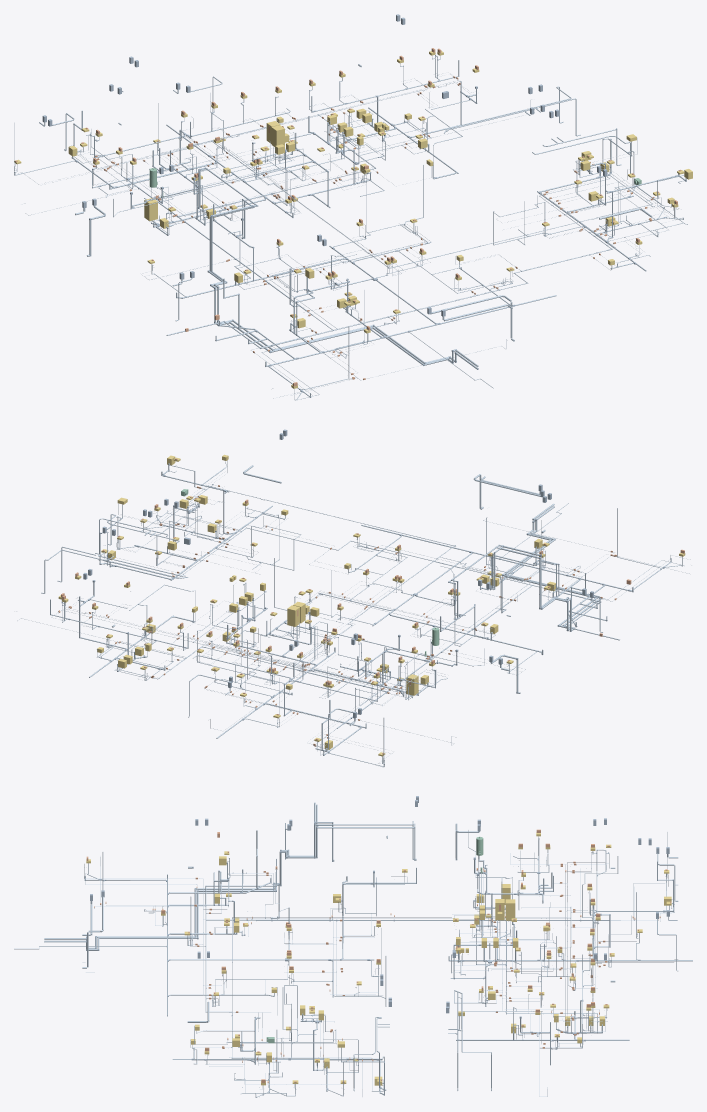
The model's file is plumbing.glb.
3 views of the same model, one above another, from view 1: azimuth 30°, elevation 25°; view 2: azimuth 150°, elevation 25°; view 3: azimuth 270°, elevation 25° (orthographic). The views are drawn at different scales.
Parts seen in each view (by area): view 1: duct, terminal, fitting, valve; view 2: duct, terminal, fitting, valve; view 3: duct, terminal, fitting, valve.
Boxes of the visible parts, bbox=[...] form: duct: bbox=[14, 55, 687, 400]; terminal: bbox=[14, 51, 692, 388]; fitting: bbox=[14, 14, 687, 400]; valve: bbox=[15, 48, 681, 386]; duct: bbox=[16, 460, 690, 767]; terminal: bbox=[58, 454, 685, 756]; fitting: bbox=[50, 429, 682, 766]; valve: bbox=[58, 458, 684, 754]; duct: bbox=[14, 803, 692, 1097]; terminal: bbox=[86, 832, 671, 1085]; fitting: bbox=[44, 796, 674, 1097]; valve: bbox=[86, 829, 671, 1082].
Size of the model in its own units: 54.19 by 10.21 by 64.98.
